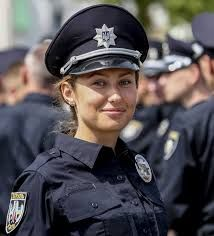uniform: (13, 128, 180, 235)
